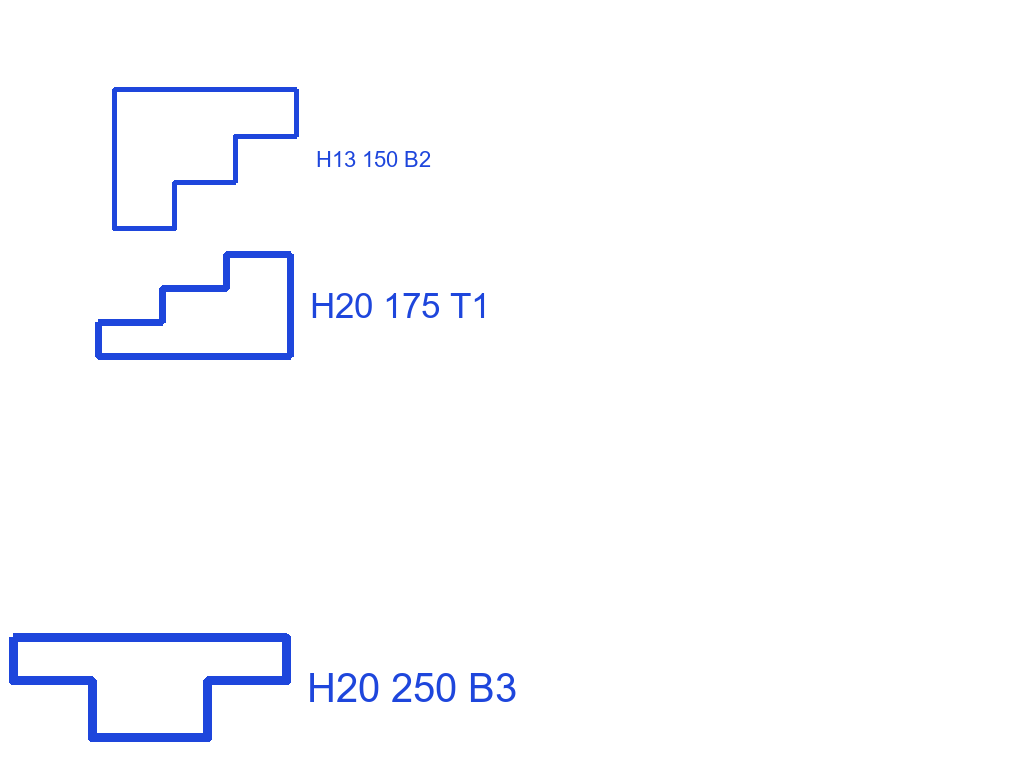shape: (7, 631, 293, 744), (110, 85, 301, 233), (93, 249, 296, 362)
text: (305, 671, 519, 704), (308, 291, 492, 320), (314, 149, 433, 169)
